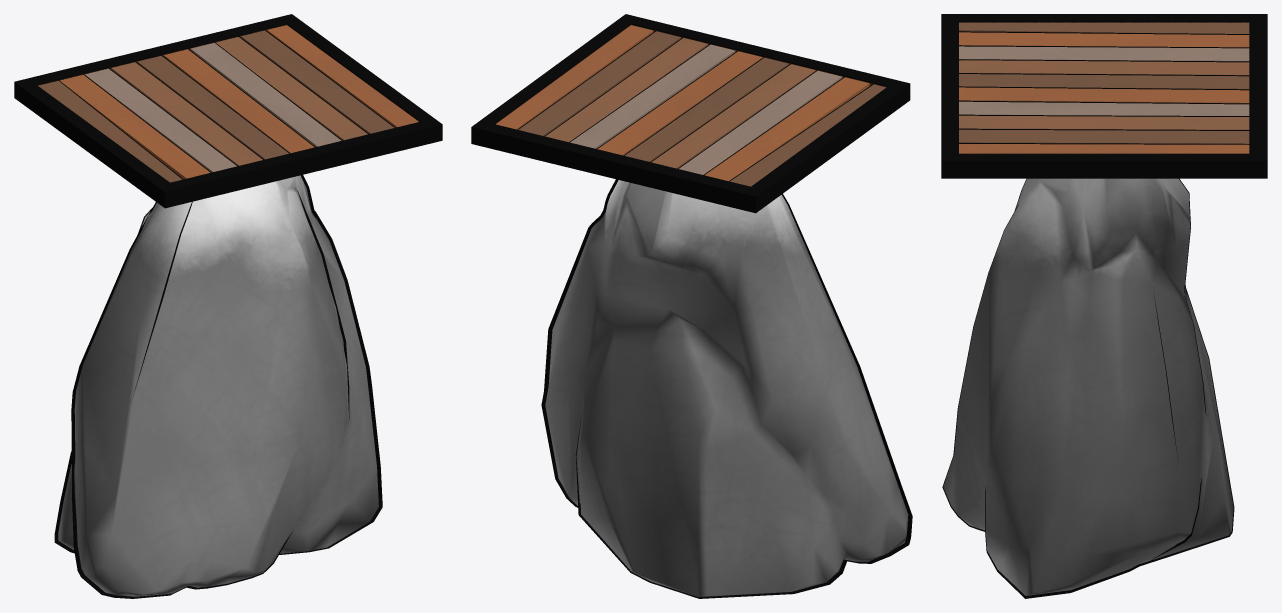
File: Escenario_3.fbx
3 renders of one model, left to right at view 1: azimuth 30°, elevation 25°; view 2: azimuth 150°, elevation 25°; view 3: azimuth 270°, elevation 25°, orthographic. The views are drawn at different scales.
Visible parts, largest first — view 1: Mountain, Tablero, Tablero3, Mountain1; view 2: Mountain, Tablero, Tablero3, Mountain1; view 3: Mountain, Tablero, Tablero3, Mountain1.
Boxes of the visible parts, left/top/right/bottom form: Mountain: left=58, top=175, right=378, bottom=596; Tablero: left=37, top=24, right=418, bottom=182; Tablero3: left=14, top=14, right=442, bottom=208; Mountain1: left=54, top=175, right=382, bottom=598; Mountain: left=545, top=180, right=908, bottom=597; Tablero: left=495, top=24, right=886, bottom=186; Tablero3: left=471, top=14, right=910, bottom=213; Mountain1: left=541, top=179, right=912, bottom=598; Mountain: left=943, top=178, right=1233, bottom=595; Tablero: left=959, top=22, right=1249, bottom=153; Tablero3: left=941, top=14, right=1267, bottom=178; Mountain1: left=942, top=178, right=1234, bottom=598.
Size of the model in its own units: 31.92 by 41.11 by 26.41.
